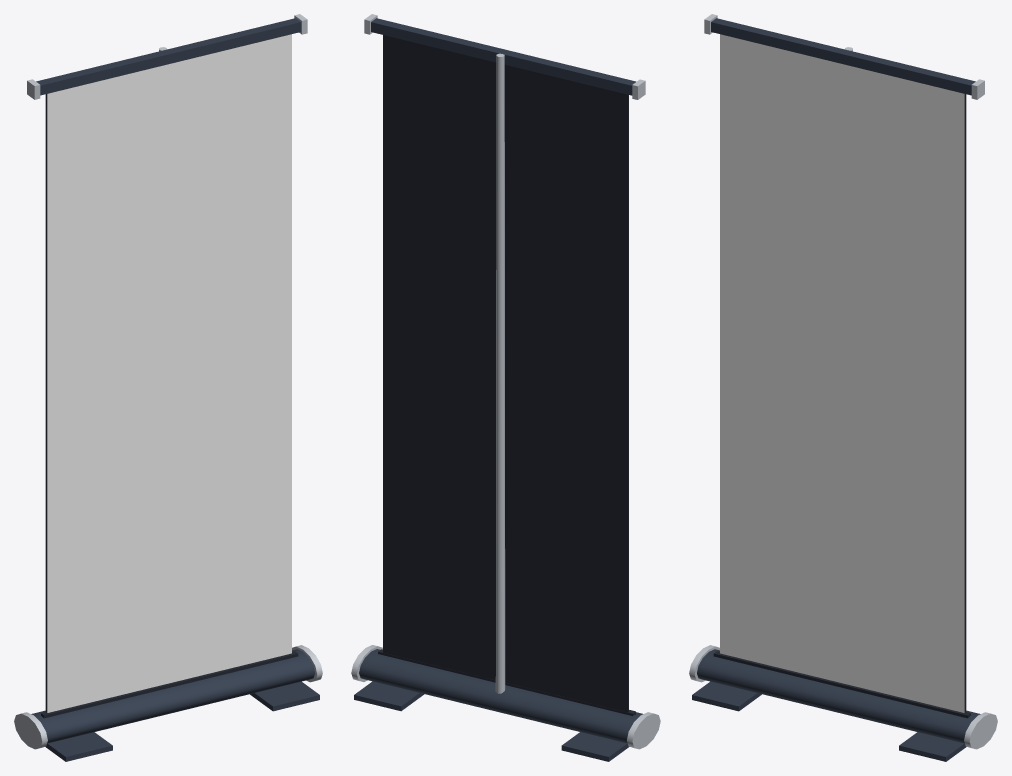
The model's file is banner_stand.glb.
3 renders of one model, left to right at view 1: azimuth 30°, elevation 25°; view 2: azimuth 150°, elevation 25°; view 3: azimuth 330°, elevation 25°, orthographic.
Parts seen in each view (by area): view 1: panel, base, panel_back, chrome; view 2: panel_back, base, chrome; view 3: panel, base, panel_back, chrome.
Part boxes in pixels (left/top/right/bottom): panel: left=47, top=34, right=291, bottom=712; base: left=31, top=18, right=319, bottom=761; panel_back: left=41, top=94, right=298, bottom=718; chrome: left=14, top=14, right=322, bottom=749; panel_back: left=378, top=35, right=635, bottom=715; base: left=354, top=18, right=642, bottom=761; chrome: left=351, top=14, right=660, bottom=749; panel: left=720, top=34, right=964, bottom=712; base: left=692, top=18, right=980, bottom=761; panel_back: left=713, top=94, right=970, bottom=718; chrome: left=689, top=14, right=997, bottom=749.
Bounding box in the file's own units: 2.98 × 6.72 × 0.9.
